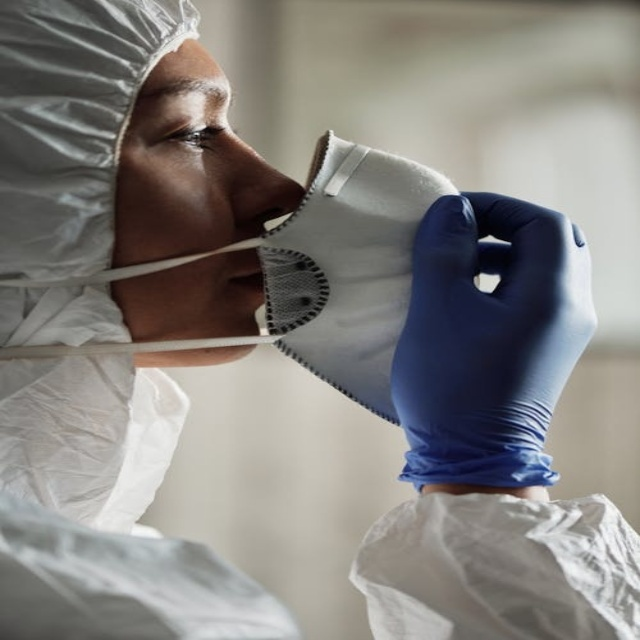Guantes: (385, 191, 595, 492)
Mascara: (2, 126, 446, 375)
Sin_gafas: (127, 72, 248, 162)
